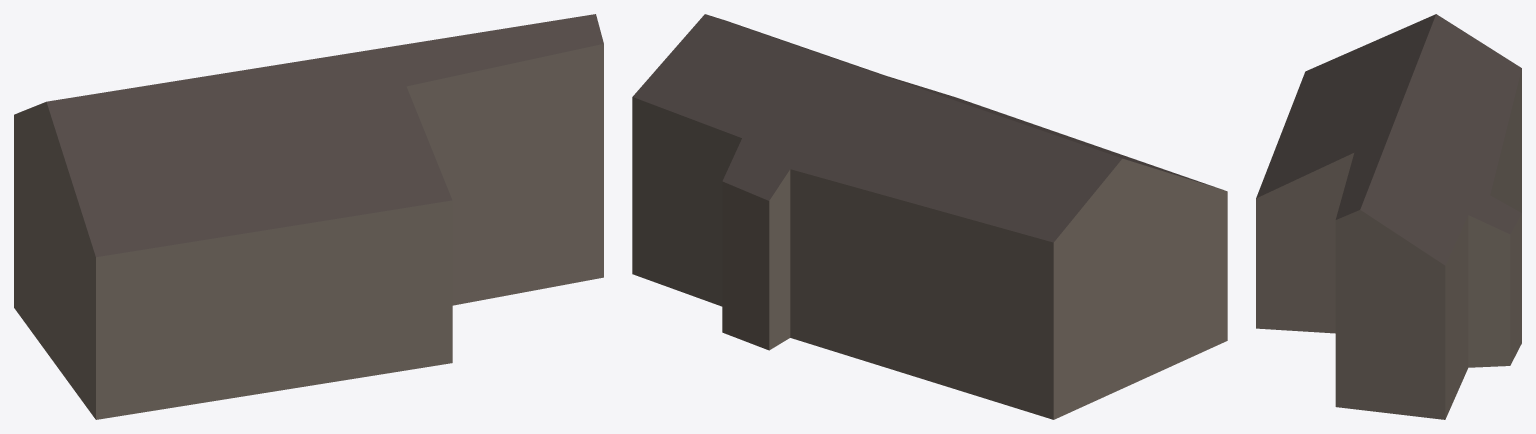
The picture shows the model from 3 angles, left to right: view 1: azimuth 30°, elevation 25°; view 2: azimuth 150°, elevation 25°; view 3: azimuth 270°, elevation 25°; orthographic projection. The views are drawn at different scales.
Parts seen in each view (by area): view 1: HP-w1515071134; view 2: HP-w1515071134; view 3: HP-w1515071134.
Part boxes in pixels (<box>): HP-w1515071134: <box>14,14,603,419</box>; HP-w1515071134: <box>632,14,1227,419</box>; HP-w1515071134: <box>1256,14,1521,419</box>.
Size of the model in its own units: 21.61 by 9.24 by 11.12.
